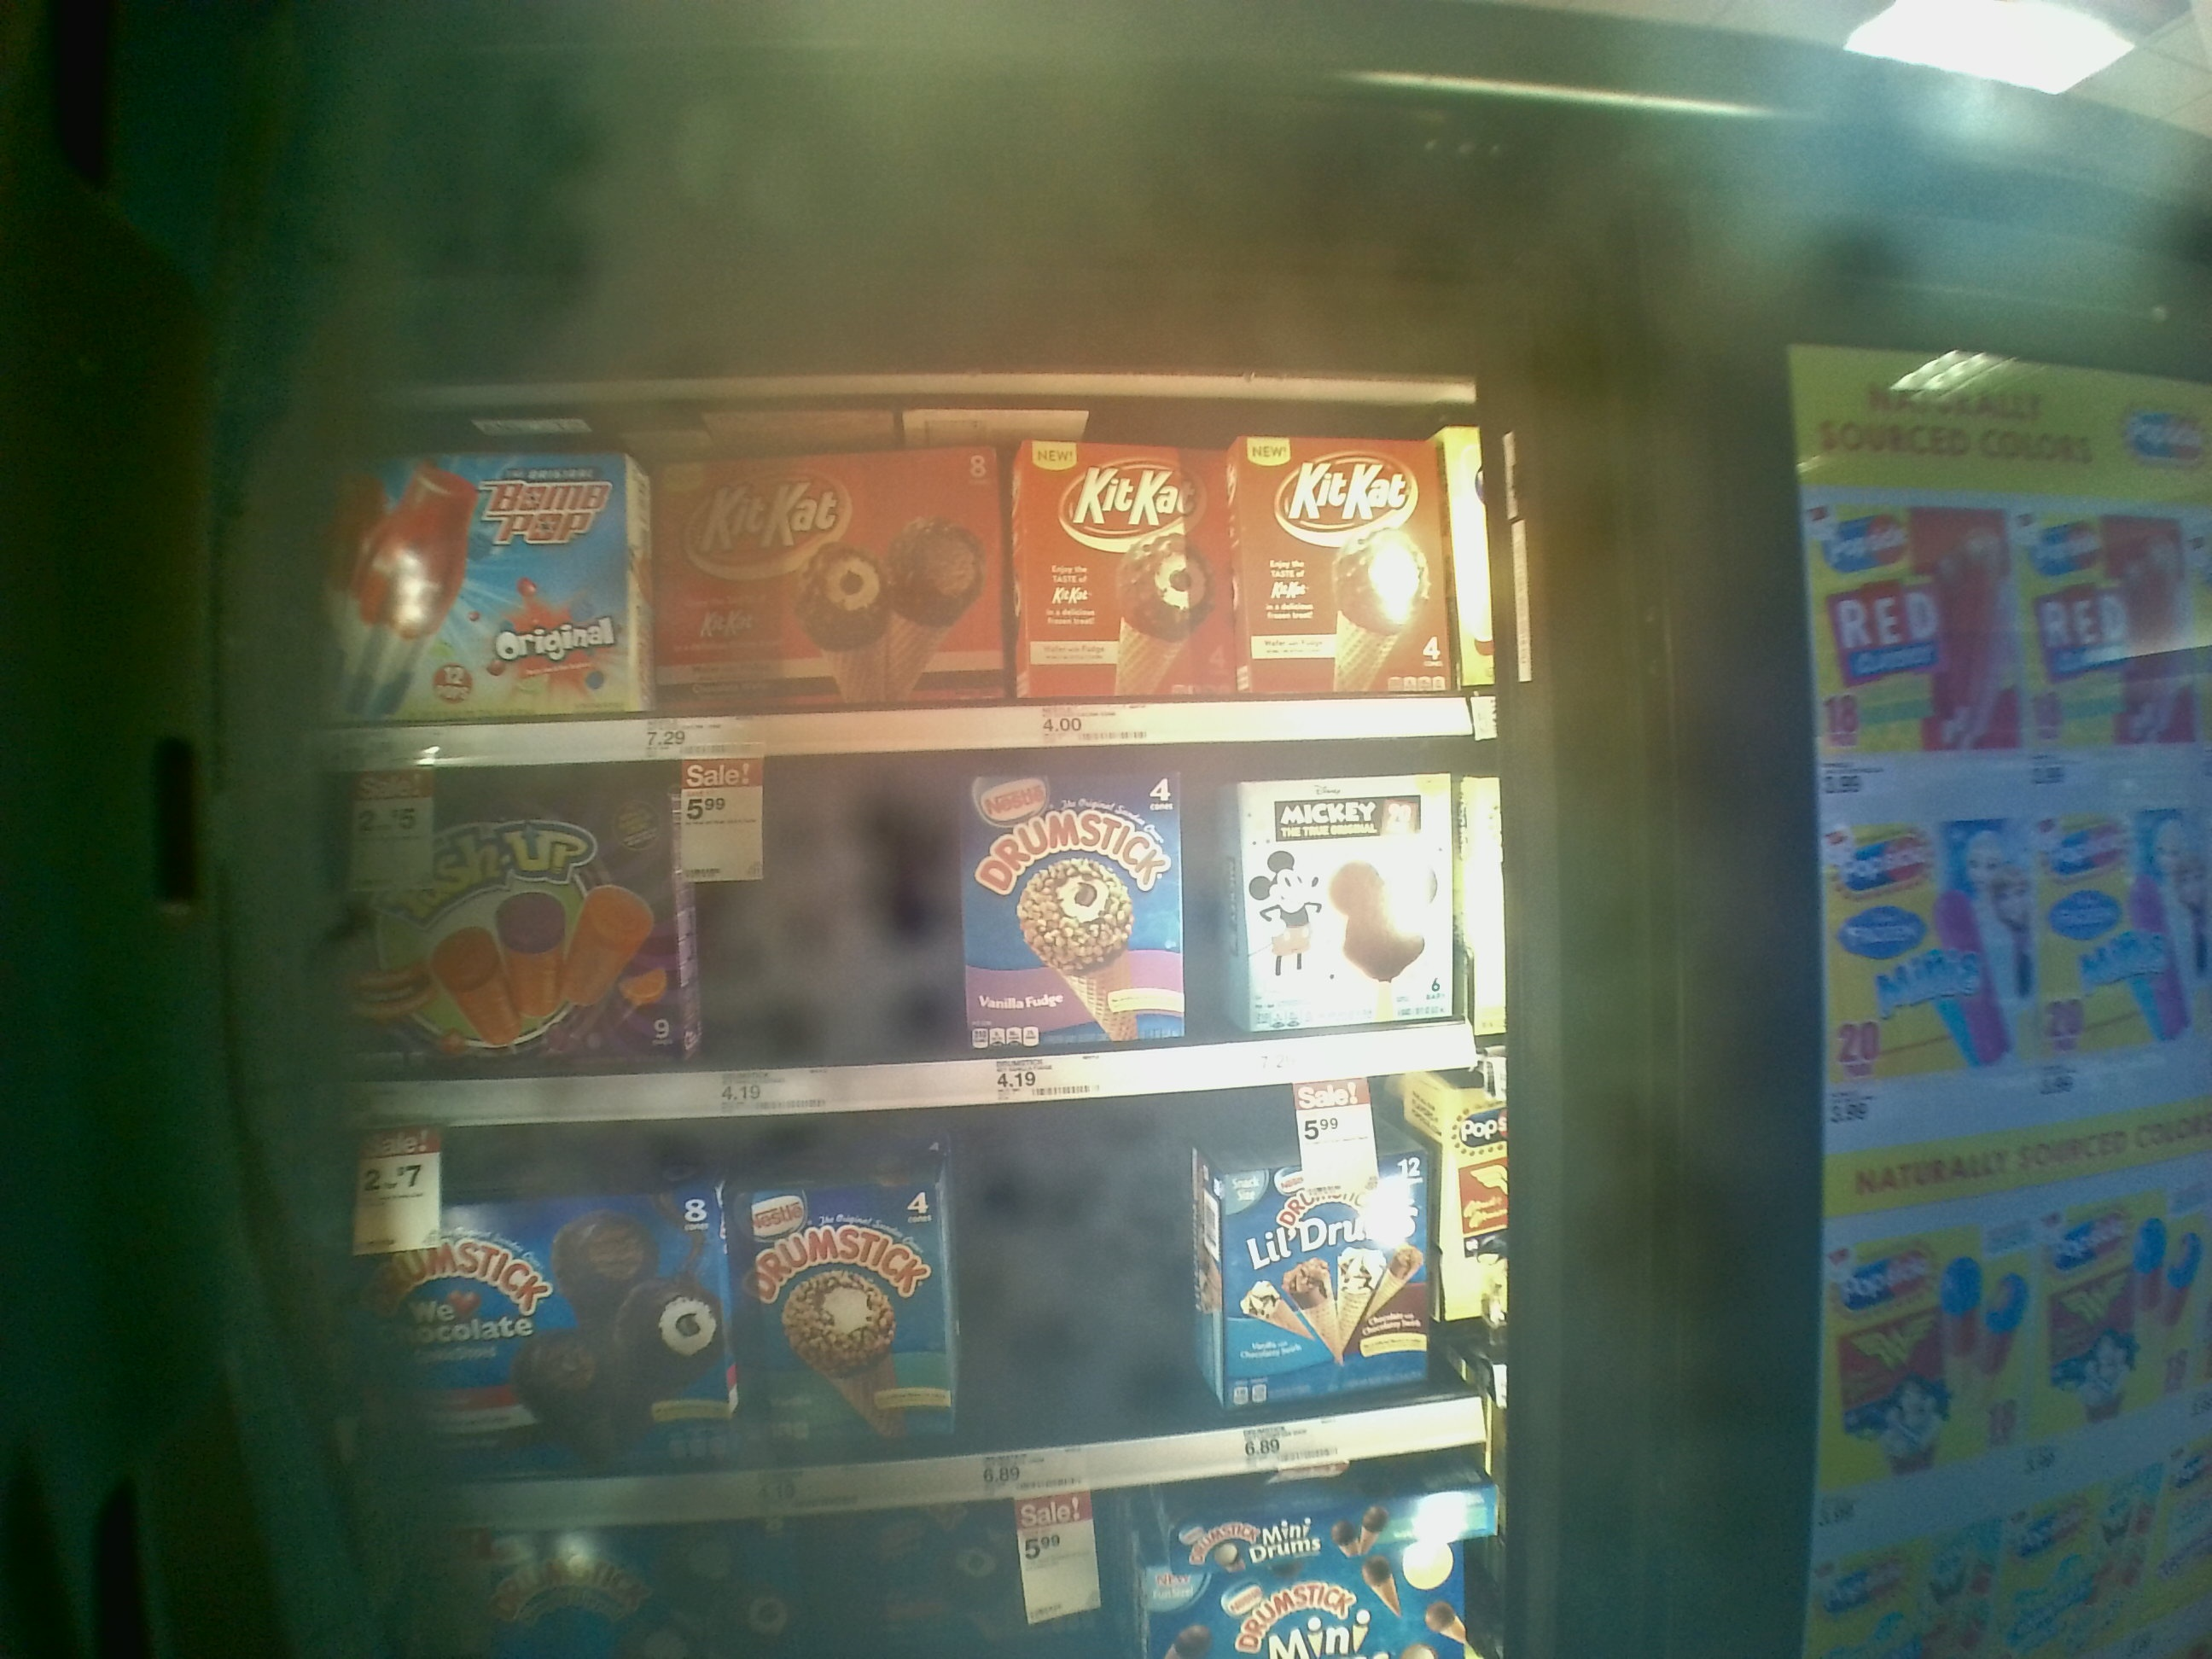shelf: (329, 1053, 1519, 1535), (329, 727, 1505, 1127), (301, 408, 1505, 769)
